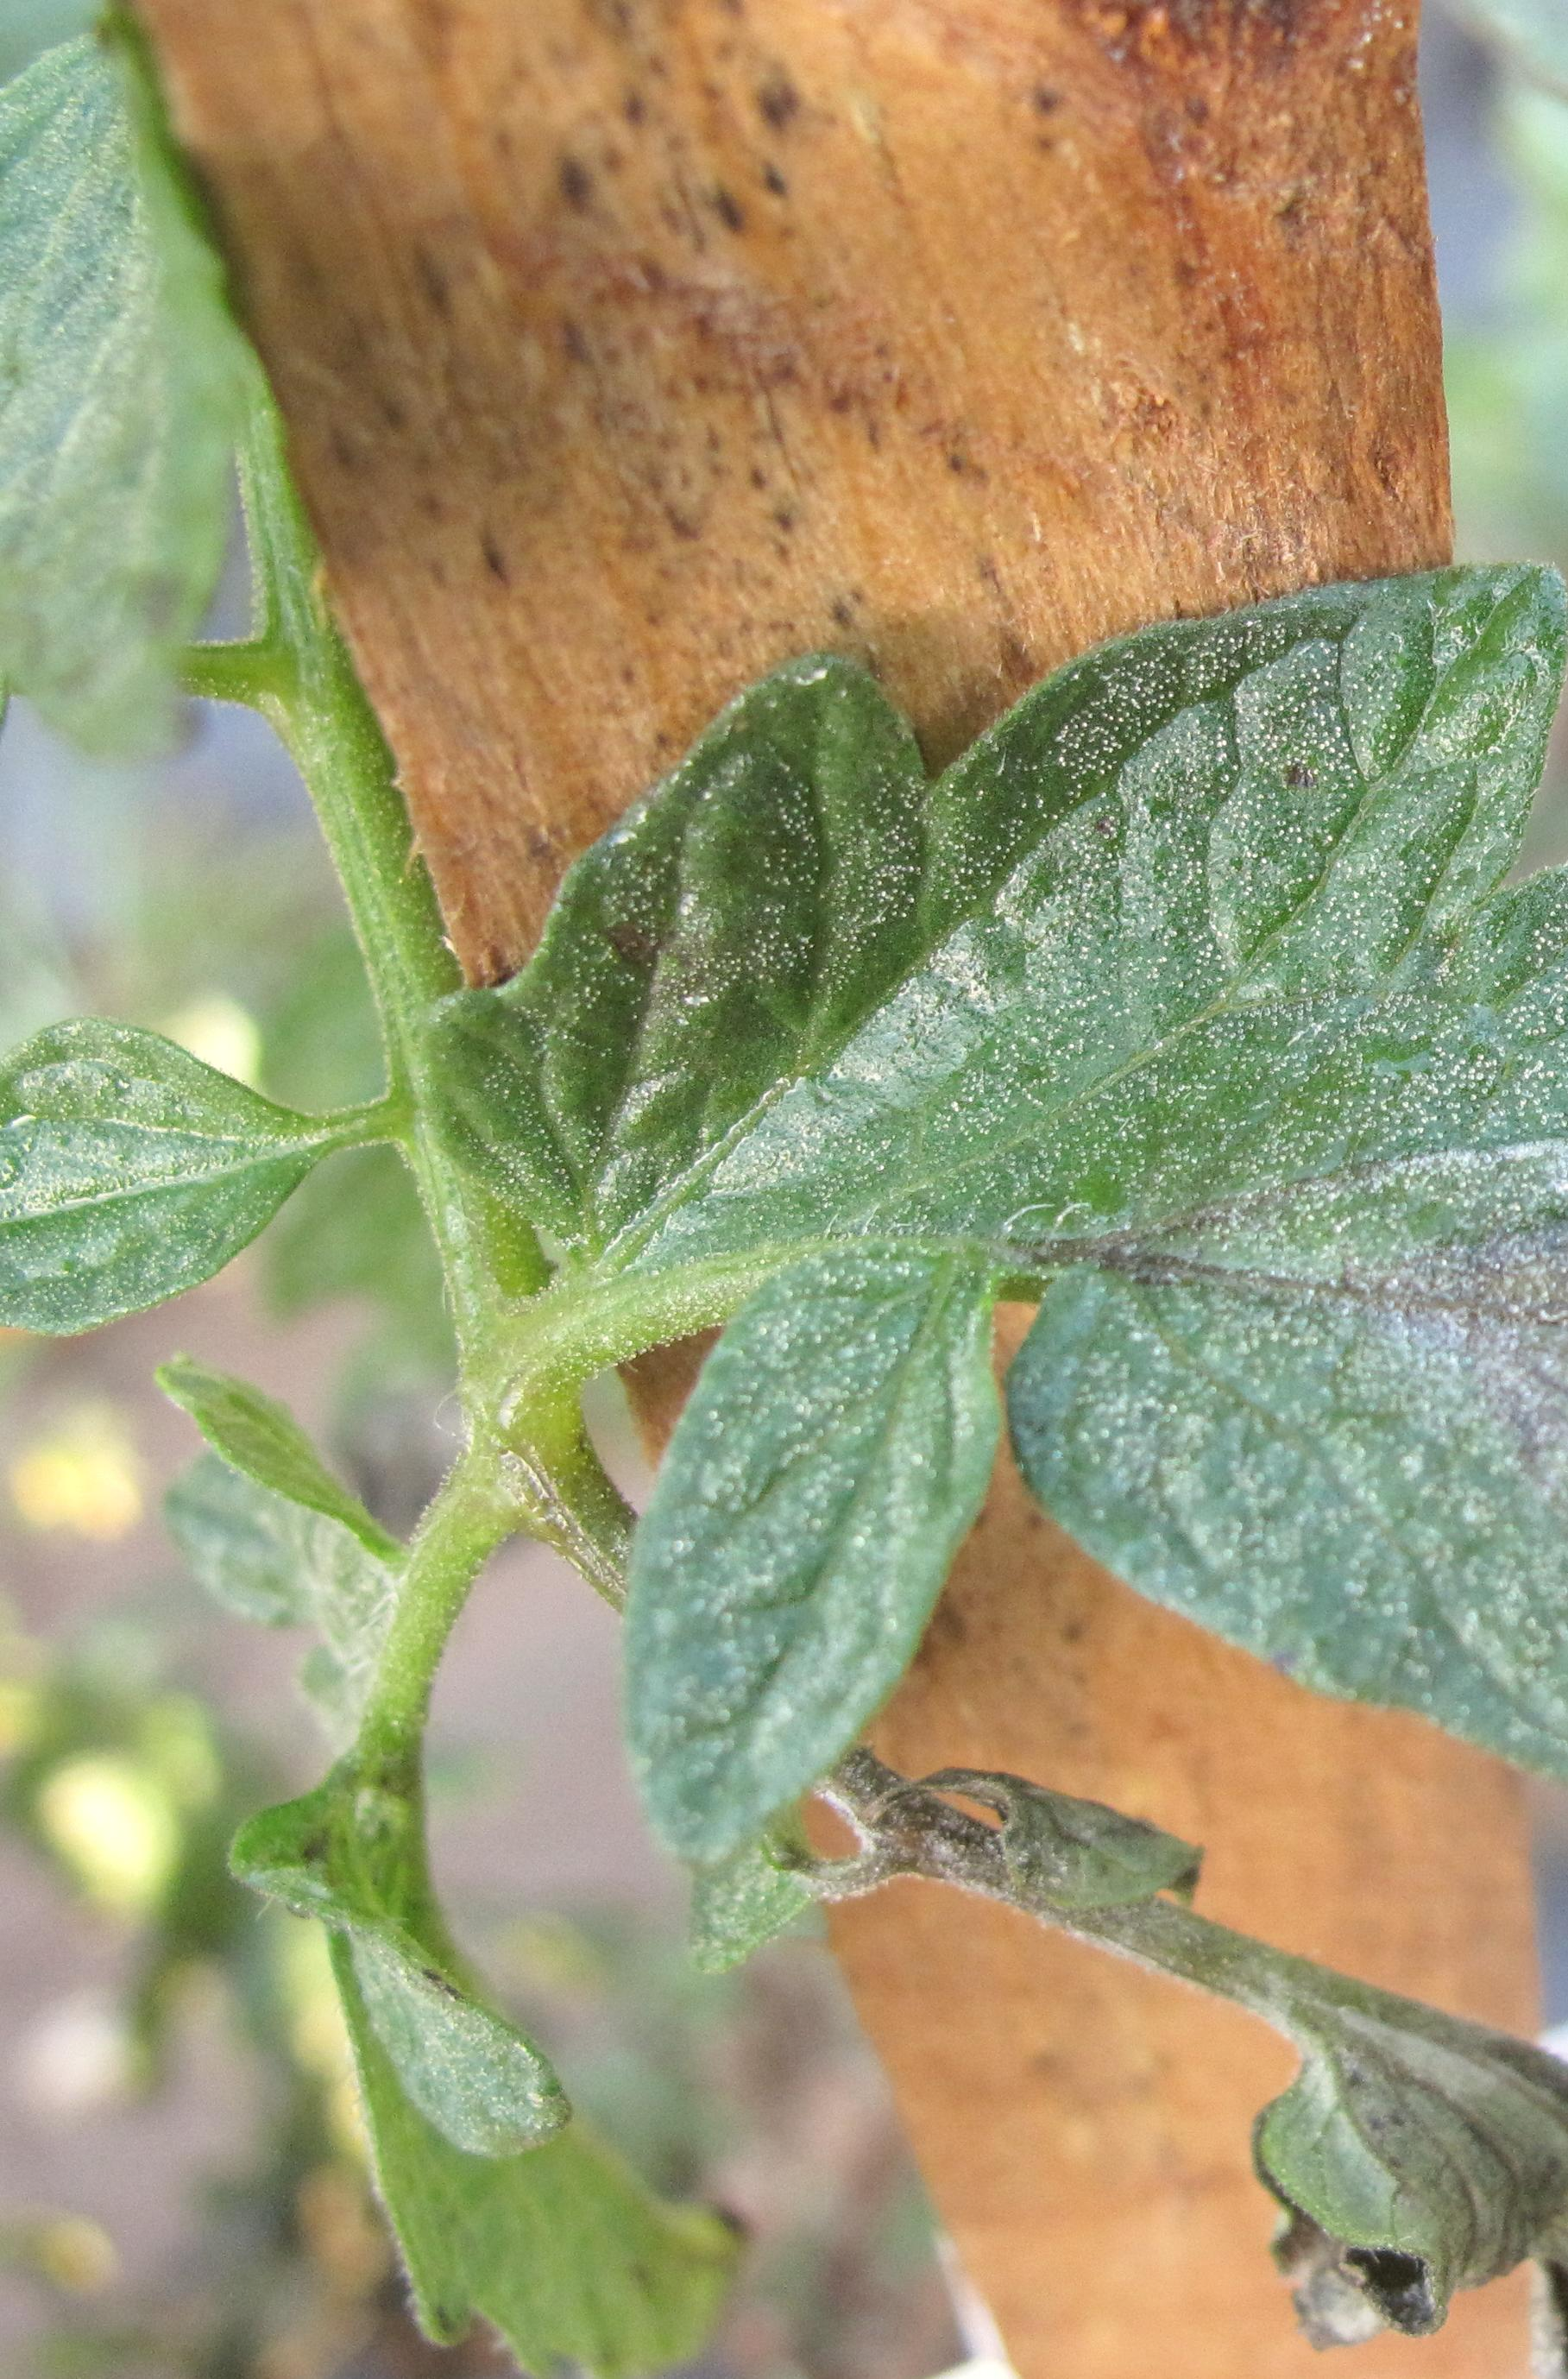Tomato leaf late blight: (289, 532, 1568, 2029)
